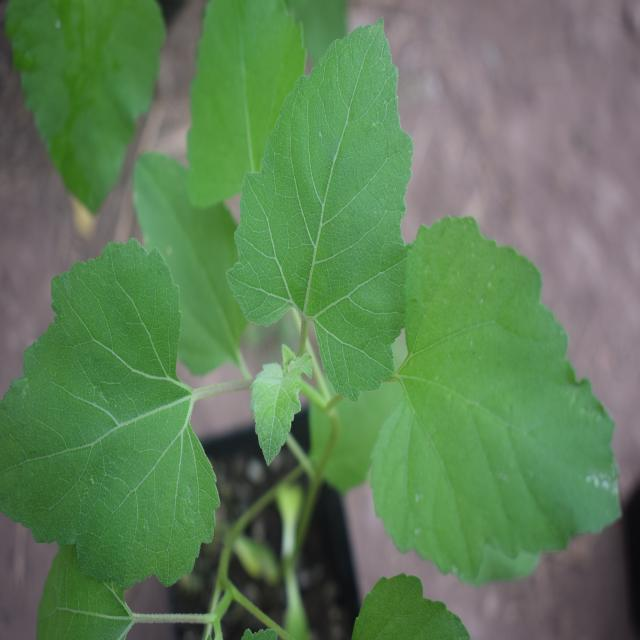cocklebur: (34, 21, 592, 565)
